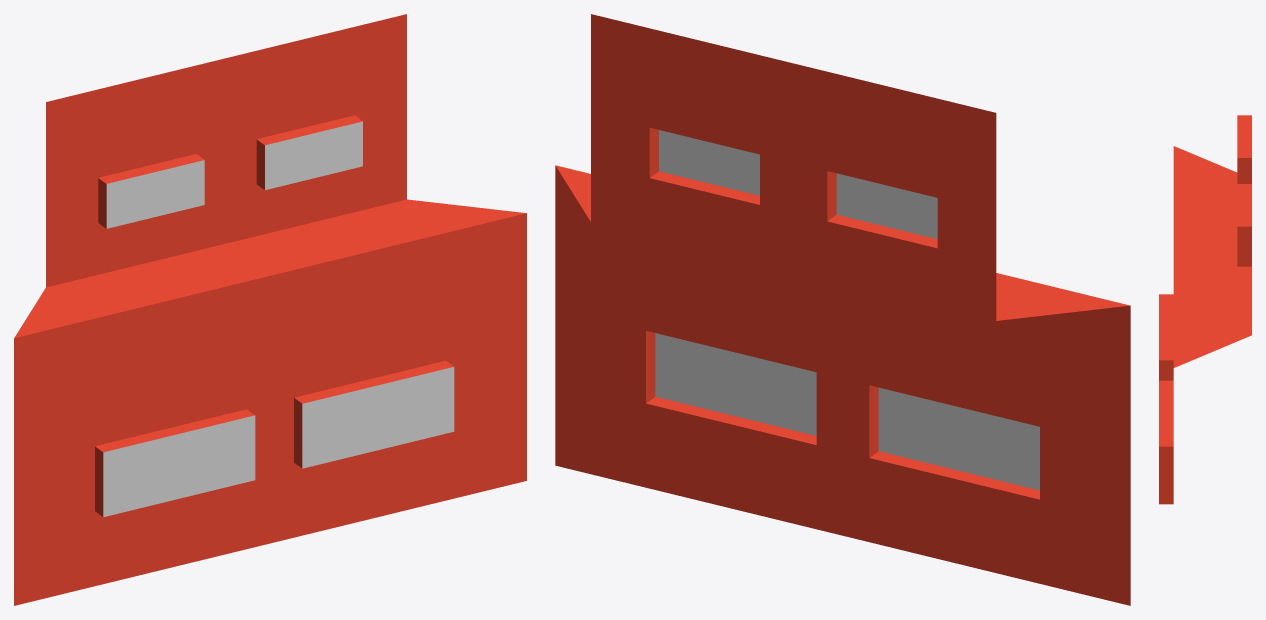
The model's file is windowWallChinese.fbx.
3 renders of one model, left to right at view 1: azimuth 30°, elevation 25°; view 2: azimuth 150°, elevation 25°; view 3: azimuth 270°, elevation 25°, orthographic. The views are drawn at different scales.
Parts seen in each view (by area): view 1: WindowWallChinese; view 2: WindowWallChinese; view 3: WindowWallChinese.
Boxes of the visible parts, box(x1,y1,x2,y2) form: WindowWallChinese: box(14, 14, 526, 605); WindowWallChinese: box(555, 14, 1130, 605); WindowWallChinese: box(1159, 115, 1251, 504).
Bounding box in the file's own units: 200 × 169 × 35.32.
